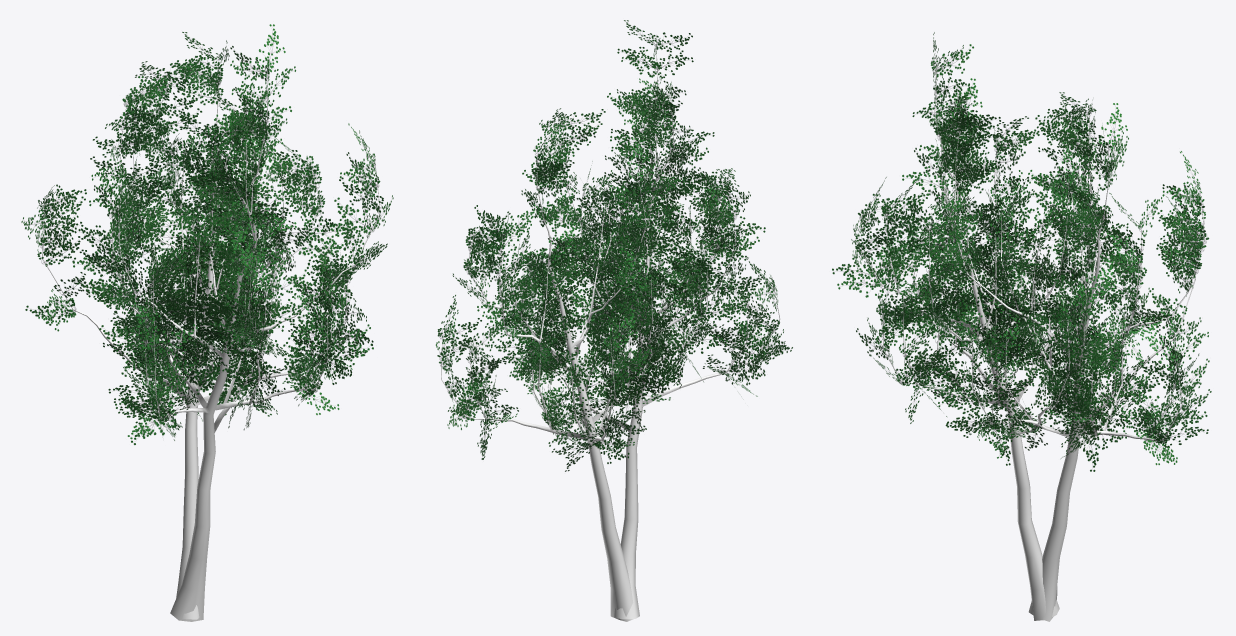
File: bouleau_feuilles2.glb
3 views of the same model, side by side, from view 1: azimuth 30°, elevation 25°; view 2: azimuth 150°, elevation 25°; view 3: azimuth 270°, elevation 25° (orthographic). The views are drawn at different scales.
Visible parts, largest first — view 1: birch-4; view 2: birch-4; view 3: birch-4.
Boxes of the visible parts, x1,y1,x2,y2 form: birch-4: (21,24,393,621); birch-4: (435,20,792,621); birch-4: (832,32,1211,621).
Size of the model in its own units: 67.17 by 129 by 76.59.
2 materials, 1 textured.
